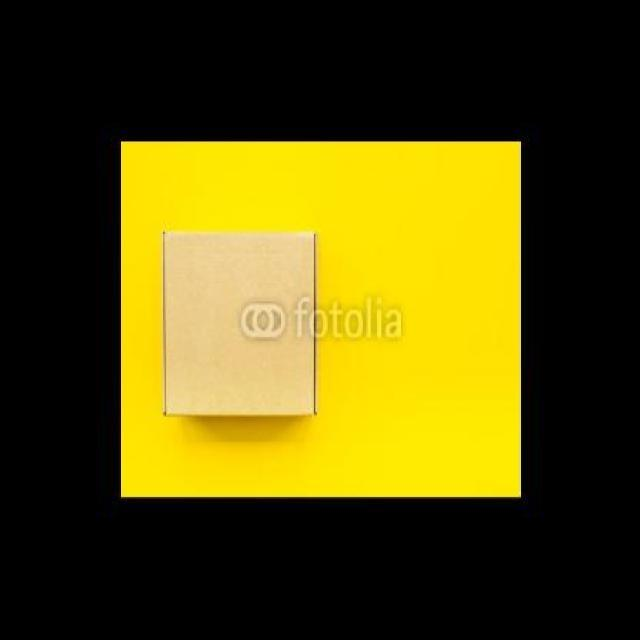obstacle: (161, 233, 316, 414)
